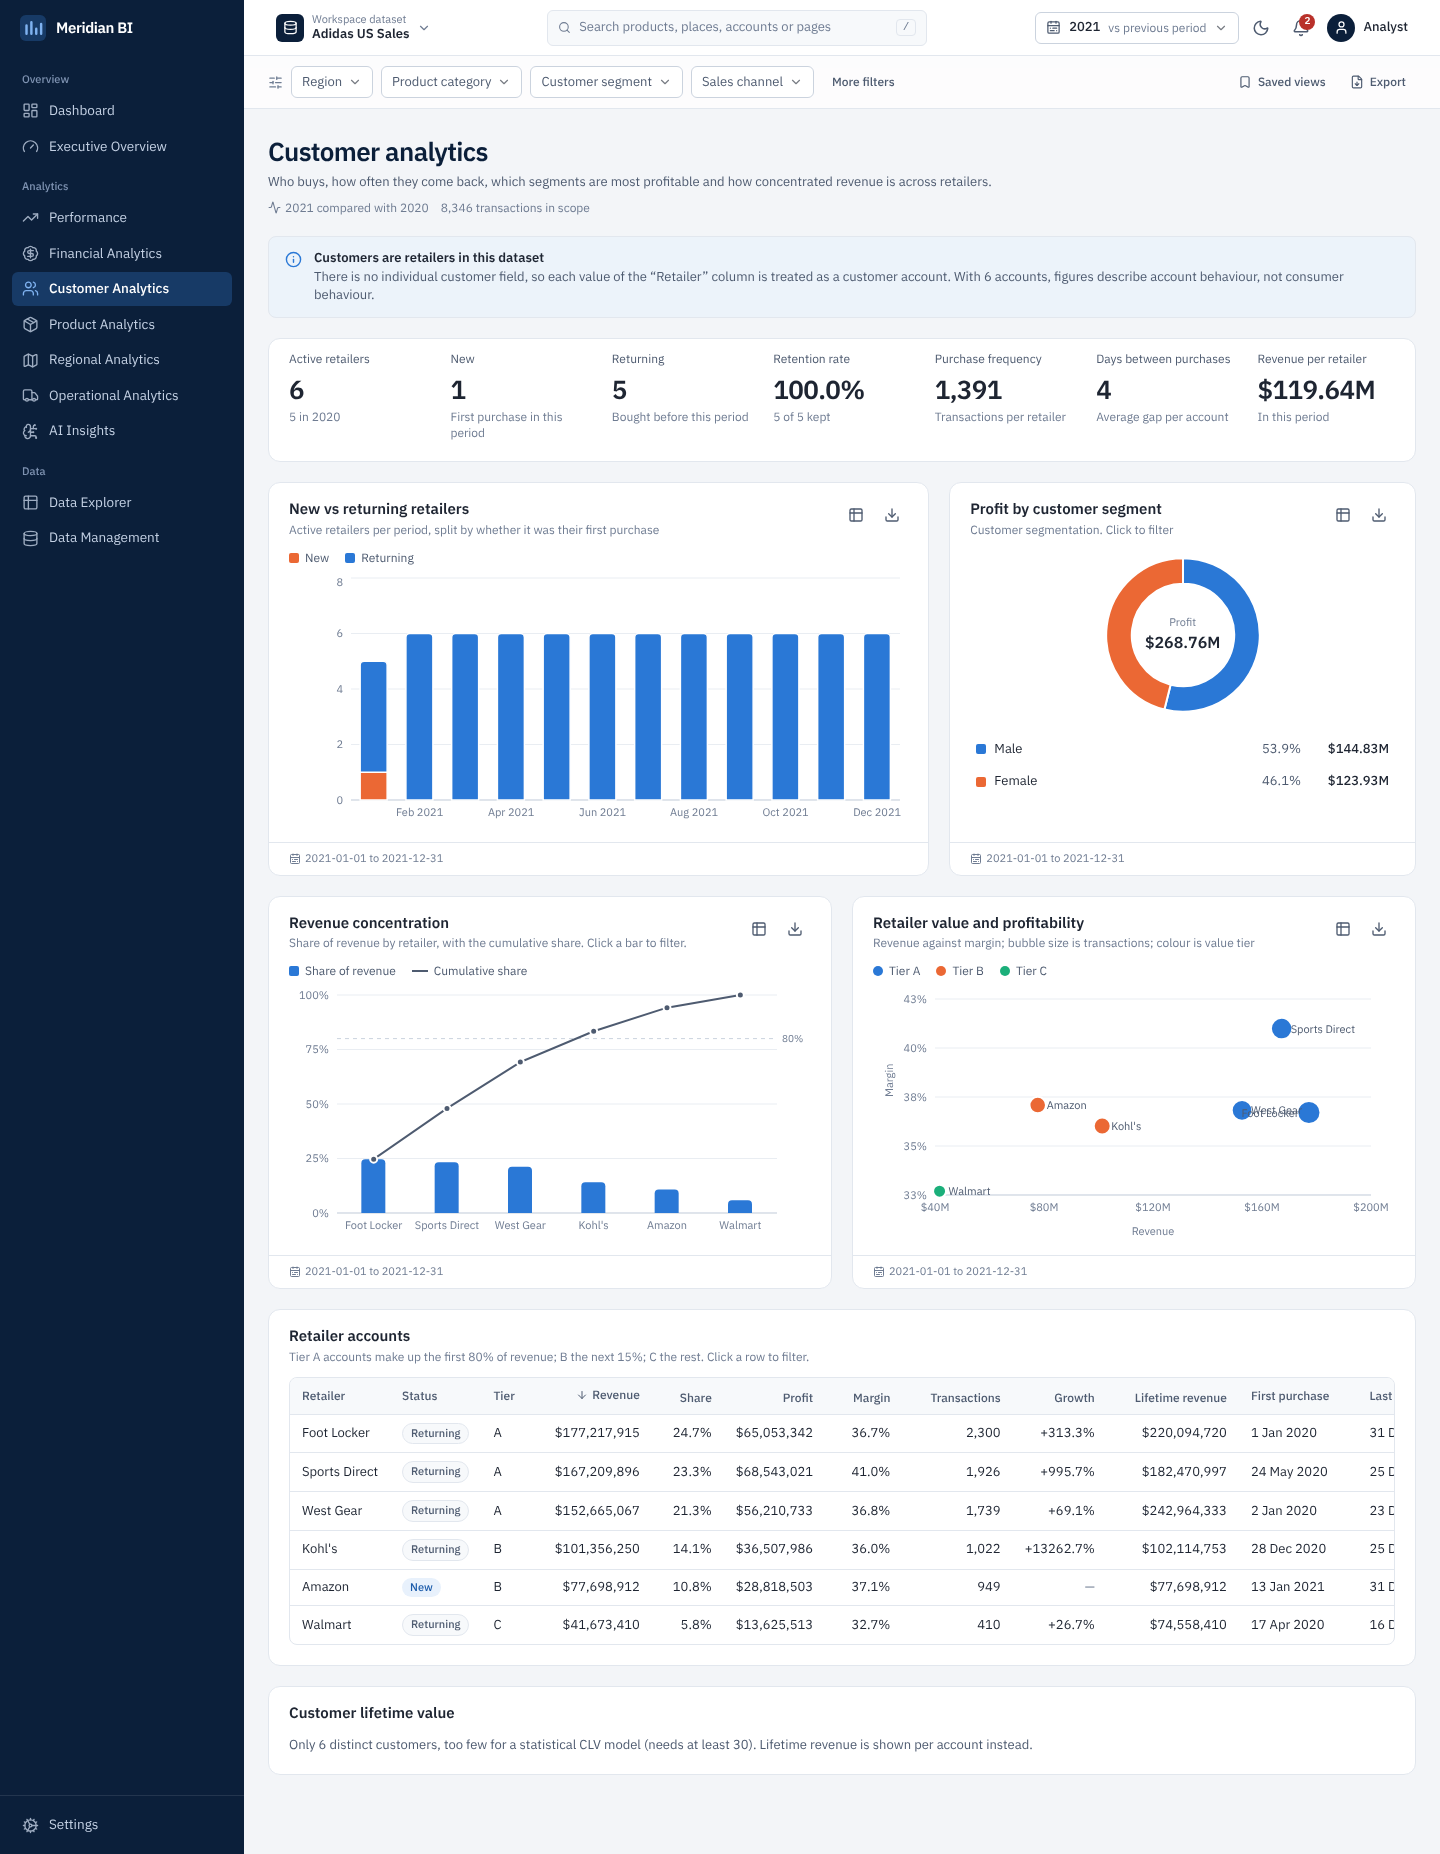

The dashboard page shown, as its layout file describes it:
{"tool":"powerbi","page":{"name":"Customer Analytics","canvas":[1280,720],"ordinal":4},"visuals":[{"type":"textbox","box":[0,0,1280,64],"z":1000},{"type":"slicer","fields":{"Values":["Calendar.Year"]},"box":[16,72,200,52],"z":2000},{"type":"slicer","fields":{"Values":["Geography.Region"]},"box":[224,72,200,52],"z":3000},{"type":"slicer","fields":{"Values":["Product.Product Category"]},"box":[432,72,200,52],"z":4000},{"type":"slicer","fields":{"Values":["Product.Gender"]},"box":[640,72,200,52],"z":5000},{"type":"slicer","fields":{"Values":["Sales Method.Sales Method"]},"box":[848,72,200,52],"z":6000},{"type":"slicer","fields":{"Values":["Retailer.Retailer"]},"box":[1056,72,200,52],"z":7000},{"type":"clusteredBarChart","title":"Revenue by retailer","fields":{"Category":["Retailer.Retailer"],"Y":["_Measures.Total Revenue"]},"box":[16,136,420,270],"z":8000},{"type":"columnChart","title":"Retailer revenue by sales channel","fields":{"Category":["Retailer.Retailer"],"Series":["Sales Method.Sales Method"],"Y":["_Measures.Total Revenue"]},"box":[448,136,816,270],"z":9000},{"type":"tableEx","title":"Retailer accounts","fields":{"Values":["Retailer.Retailer","_Measures.Total Revenue","_Measures.Revenue Share","_Measures.Operating Profit","_Measures.Operating Margin","_Measures.Transactions","_Measures.Revenue YoY %","_Measures.First Purchase","_Measures.Last Purchase"]},"box":[16,418,840,286],"z":10000},{"type":"donutChart","title":"Operating profit by gender segment","fields":{"Category":["Product.Gender"],"Y":["_Measures.Operating Profit"]},"box":[868,418,396,286],"z":11000}]}

Visuals, with their boxes on the page's 1280x720 design canvas (x1, y1, x2, y2). These are canvas units, not pixel positions in the 1440x1854 screenshot, which may show the page scaled, cropped or inside an application window:
textbox: 0/0/1280/64
slicer - Calendar.Year: 16/72/216/124
slicer - Geography.Region: 224/72/424/124
slicer - Product.Product Category: 432/72/632/124
slicer - Product.Gender: 640/72/840/124
slicer - Sales Method.Sales Method: 848/72/1048/124
slicer - Retailer.Retailer: 1056/72/1256/124
"Revenue by retailer" clusteredBarChart: 16/136/436/406
"Retailer revenue by sales channel" columnChart: 448/136/1264/406
"Retailer accounts" tableEx: 16/418/856/704
"Operating profit by gender segment" donutChart: 868/418/1264/704
